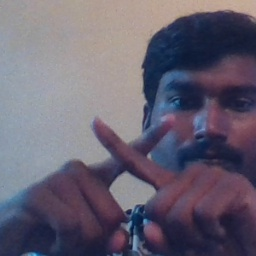X: (65, 101, 195, 232)
